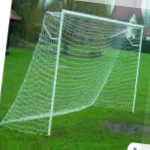goals: (2, 8, 144, 137)
